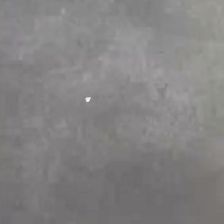Target: (83, 96, 92, 103)
